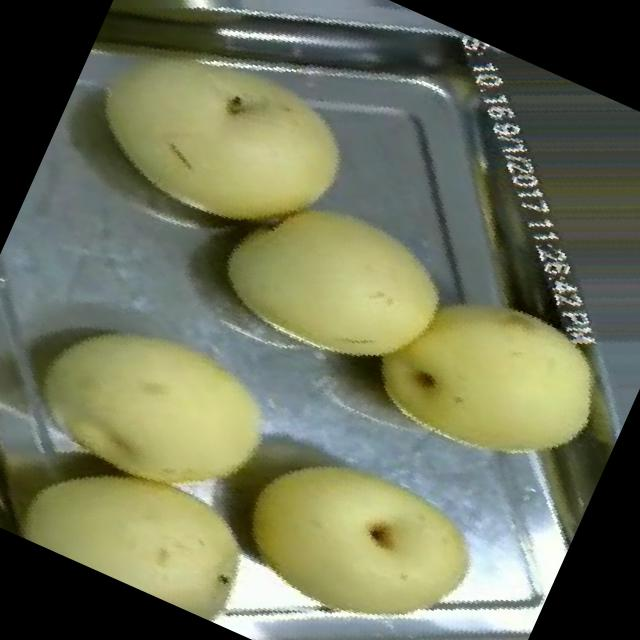Fruit: (31, 0, 405, 306), (319, 215, 640, 534), (0, 251, 323, 562), (172, 136, 490, 424), (192, 388, 526, 640), (0, 390, 305, 638)
